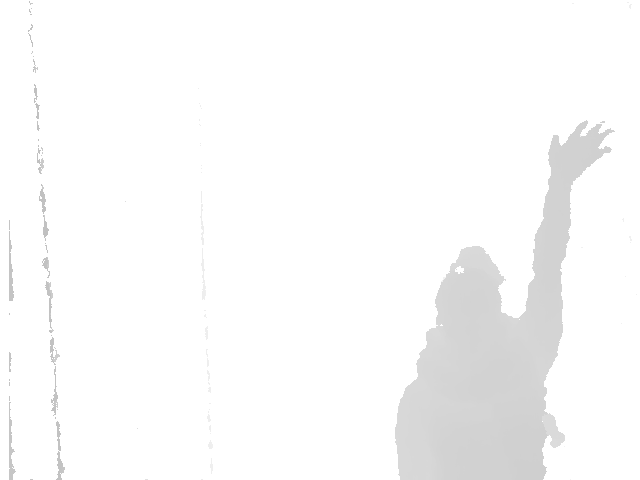hand: (545, 117, 617, 183)
head: (432, 244, 508, 334)
person: (393, 119, 614, 479)
